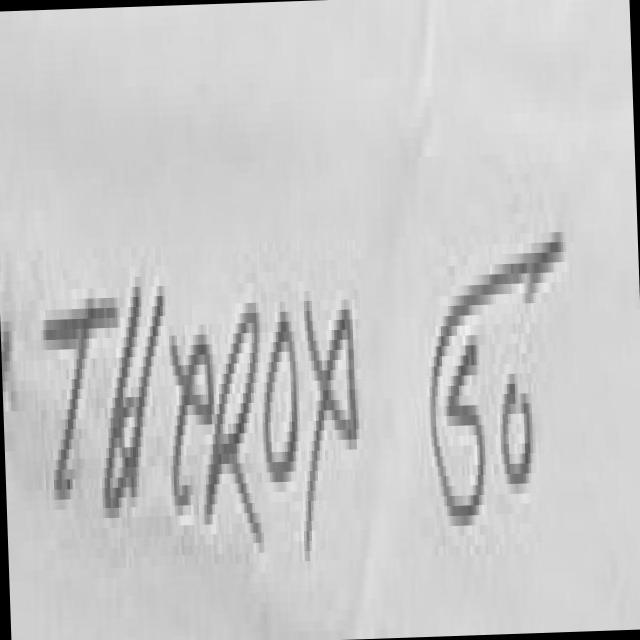0: (503, 383, 533, 483)
5: (449, 345, 486, 510)
H: (104, 286, 165, 508)
O: (264, 311, 299, 482)
R: (207, 302, 264, 542)
T: (43, 297, 117, 499)
x: (306, 305, 359, 556)
y: (171, 334, 214, 515)
